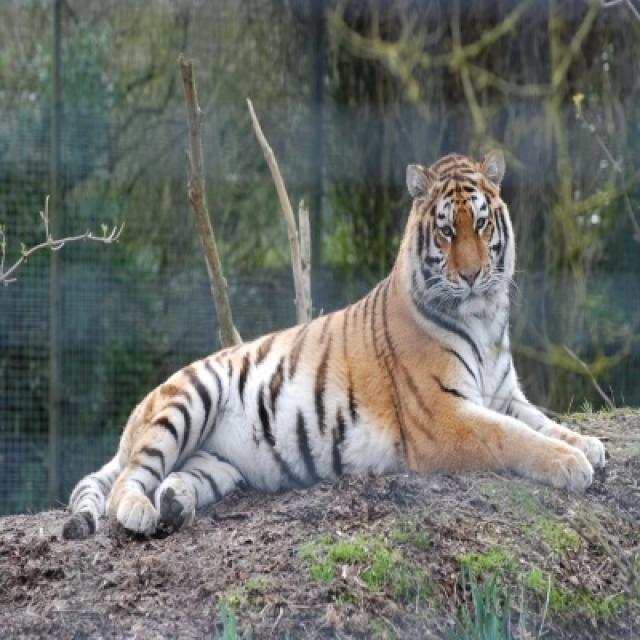Tiger: (68, 148, 623, 521)
